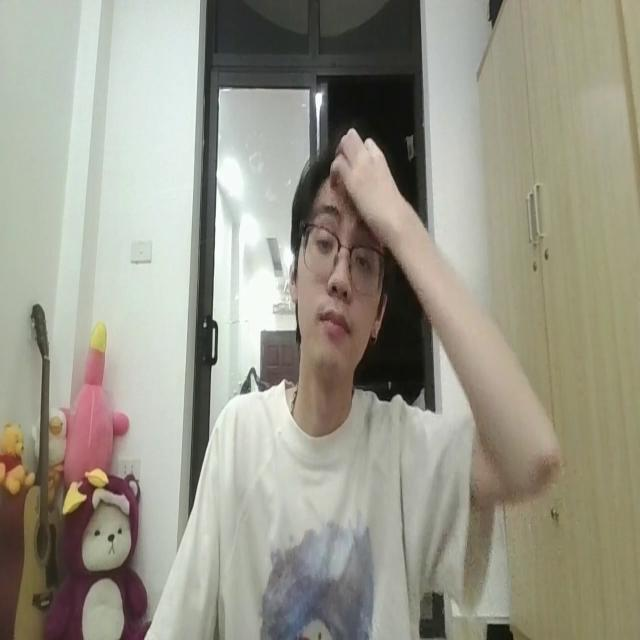student: (131, 124, 563, 640)
